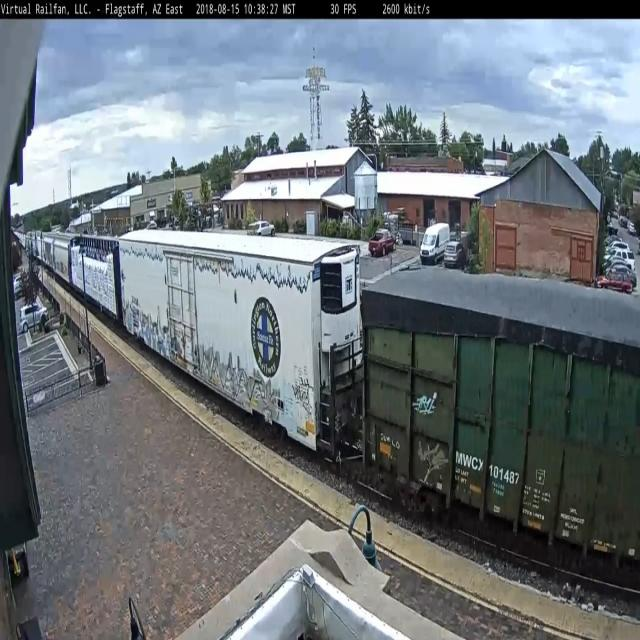boxcar: (114, 217, 368, 482)
gondola: (352, 251, 640, 598)
